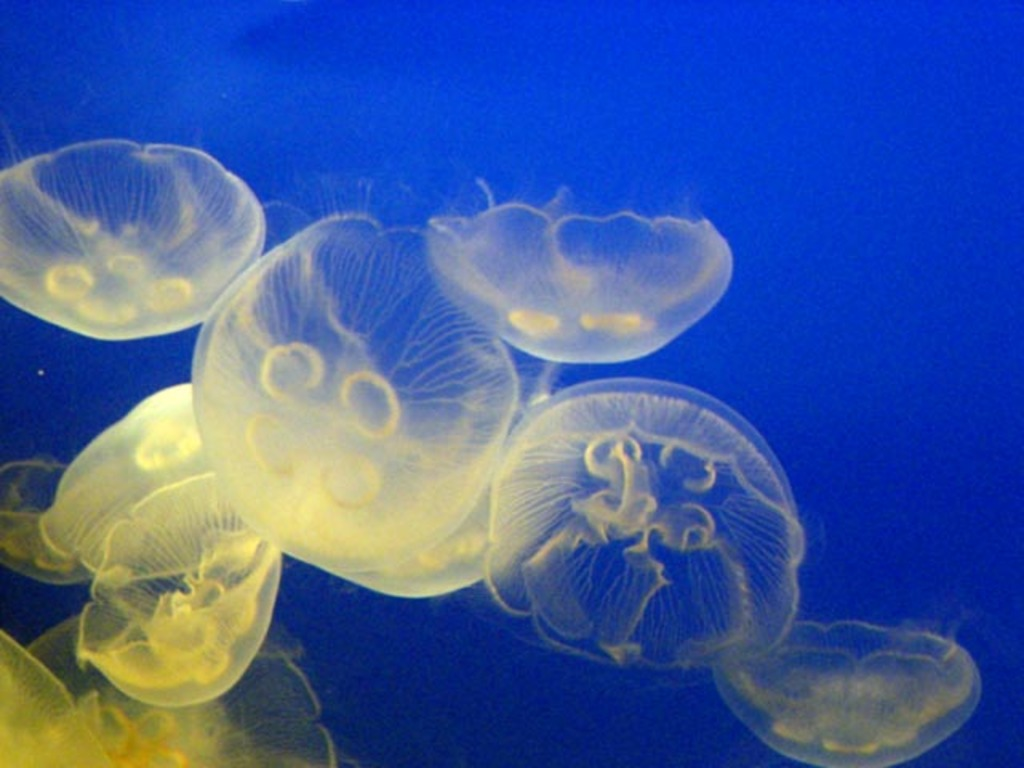Jellyfish: (184, 206, 516, 566), (483, 377, 814, 676), (423, 177, 736, 364), (323, 372, 569, 606), (0, 132, 270, 339), (33, 596, 342, 766), (71, 478, 288, 702), (32, 380, 246, 582), (708, 619, 984, 766), (0, 633, 107, 766), (0, 456, 100, 580)
